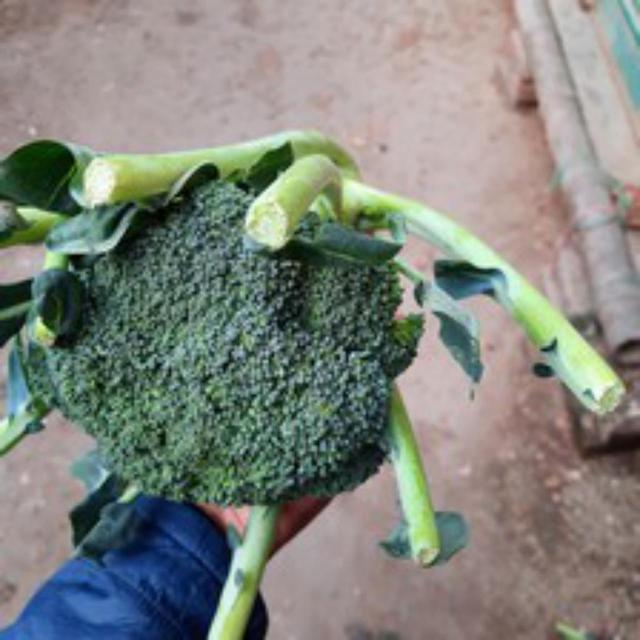broccoli: (25, 163, 428, 526)
